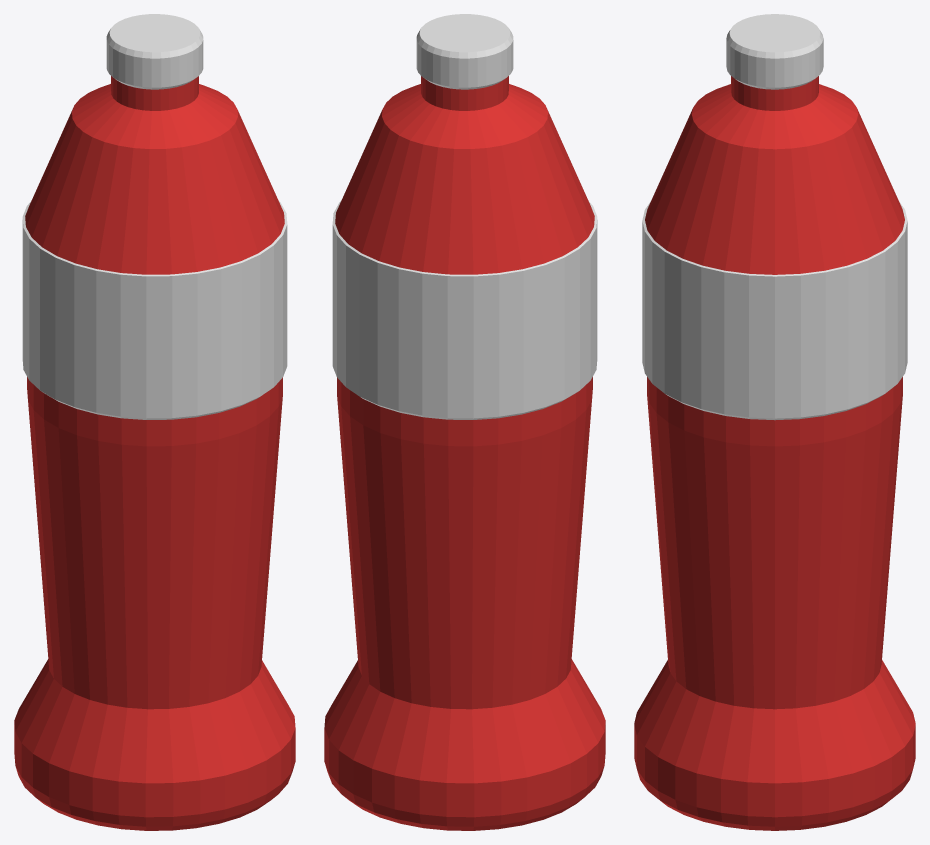
The model's file is Plastic.fbx.
3 views of the same model, side by side, from view 1: azimuth 30°, elevation 25°; view 2: azimuth 150°, elevation 25°; view 3: azimuth 270°, elevation 25° (orthographic).
Parts seen in each view (by area): view 1: PlasticBottle; view 2: PlasticBottle; view 3: PlasticBottle.
Part boxes in pixels (x1,y1,x2,y2): PlasticBottle: (14, 14, 295, 830); PlasticBottle: (324, 14, 605, 830); PlasticBottle: (634, 14, 915, 830).
Size of the model in its own units: 2 by 5.85 by 2.
